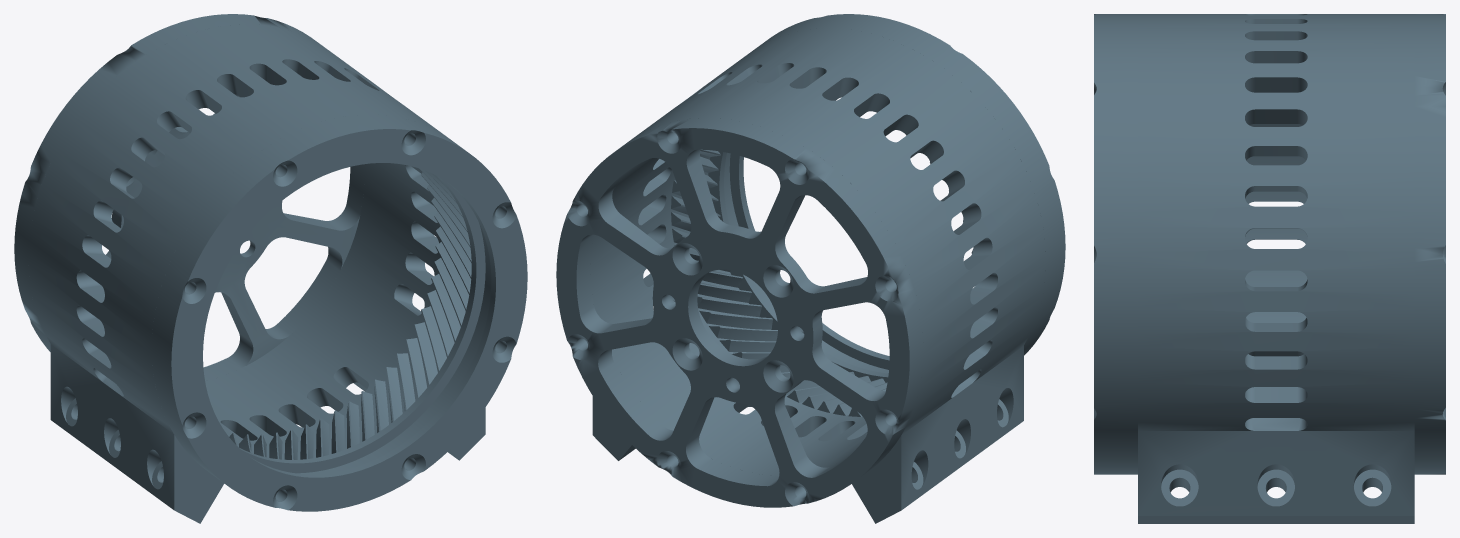
File: housing_LOD0.fbx
3 renders of one model, left to right at view 1: azimuth 30°, elevation 25°; view 2: azimuth 150°, elevation 25°; view 3: azimuth 270°, elevation 25°, orthographic. The views are drawn at different scales.
Parts seen in each view (by area): view 1: MM_opentorque_actuator_housing_6b3f86bb2e, MM_opentorque_bearing_retainer_b092119325, MM_opentorque_backplate_a3494298e5; view 2: MM_opentorque_actuator_housing_6b3f86bb2e, MM_opentorque_backplate_a3494298e5, MM_opentorque_bearing_retainer_b092119325; view 3: MM_opentorque_actuator_housing_6b3f86bb2e, MM_opentorque_bearing_retainer_b092119325, MM_opentorque_backplate_a3494298e5.
Part boxes in pixels (left/top/right/bottom): MM_opentorque_actuator_housing_6b3f86bb2e: left=28, top=24, right=485, bottom=523; MM_opentorque_bearing_retainer_b092119325: left=151, top=114, right=527, bottom=511; MM_opentorque_backplate_a3494298e5: left=14, top=14, right=364, bottom=380; MM_opentorque_actuator_housing_6b3f86bb2e: left=590, top=28, right=1045, bottom=523; MM_opentorque_backplate_a3494298e5: left=556, top=118, right=923, bottom=507; MM_opentorque_bearing_retainer_b092119325: left=724, top=14, right=1065, bottom=373; MM_opentorque_actuator_housing_6b3f86bb2e: left=1138, top=14, right=1414, bottom=523; MM_opentorque_bearing_retainer_b092119325: left=1094, top=14, right=1137, bottom=474; MM_opentorque_backplate_a3494298e5: left=1414, top=14, right=1445, bottom=474.
Size of the model in its own units: 0.11 by 0.11 by 0.084.
